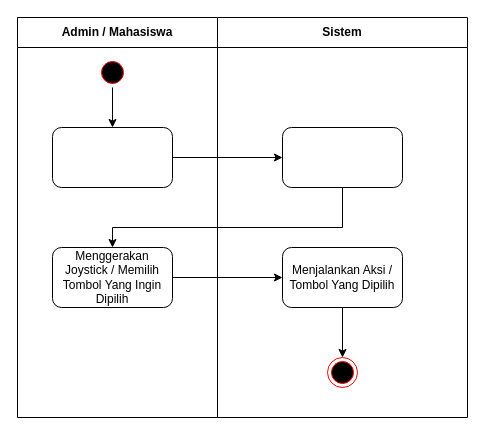
Image size: 485x435. Some labels were removed from this diagram. The centre of each missing label's shape, as x and y in pixels:
"Menampilkan Scene Gameplay" belongs at (x=342, y=157).
"Menekan Tombol Start Game" belongs at (x=112, y=157).
